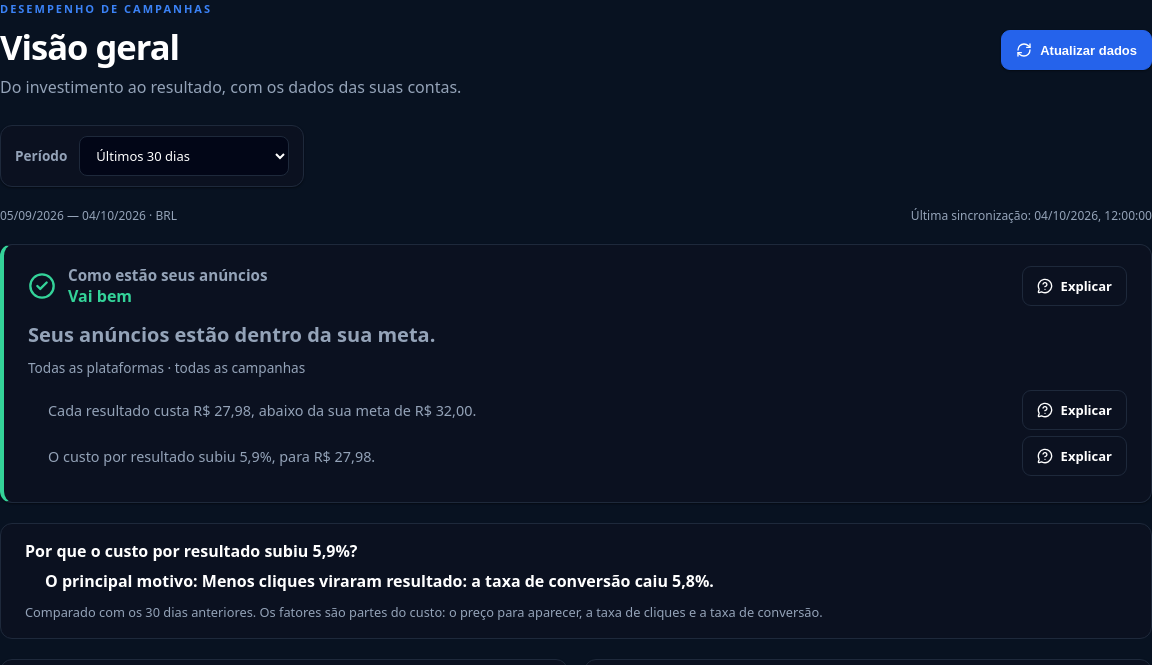
lets the demo user open the explainer and read the fixed example answer
Click the button with aria-label "Explicar: Como estão seus anúncios". click: (1074, 286)
box: [1022,266,1127,306]
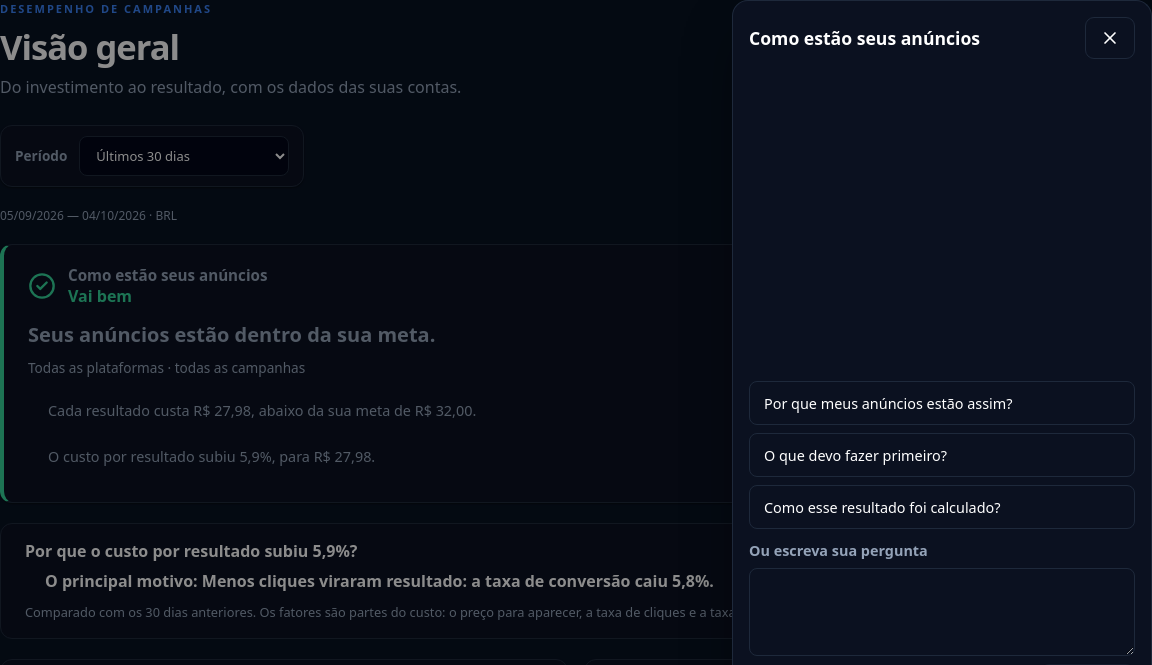
Click the button "O que devo fazer primeiro?". click: (942, 455)
box: [749,433,1135,477]
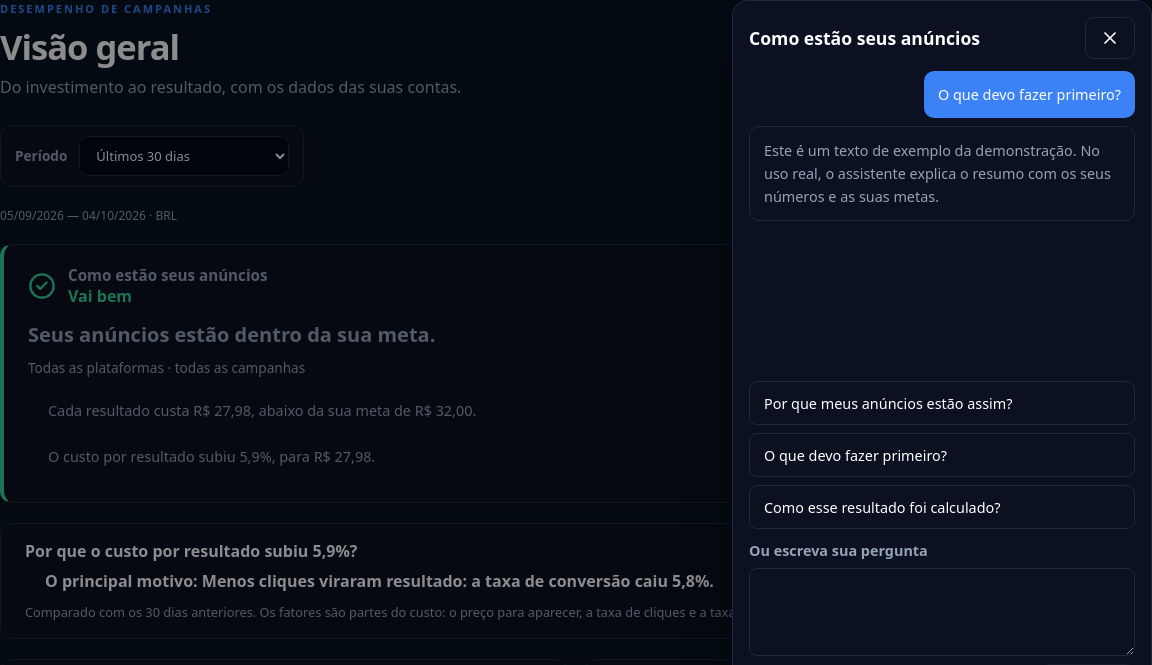
Now the text "texto de exemplo da demonstração" is shown, box [764,141,1115,206]
